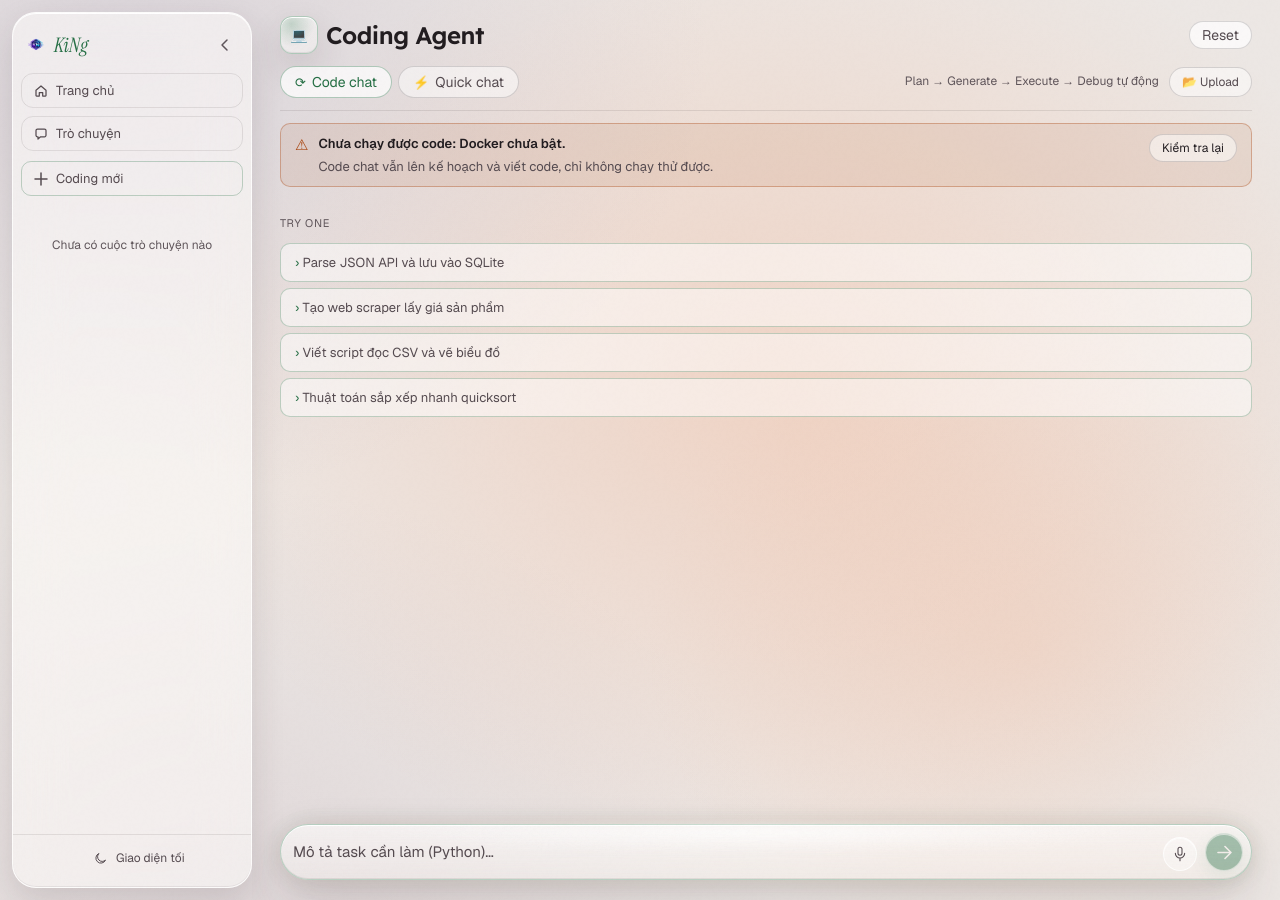
Coding page — sandbox status › doesn't warn in Quick chat, which never runs code
expect the text "Chưa chạy được code: Docker chưa bật." is shown: met, box [318,135,565,152]
Click the button "⚡ Quick chat" at (459, 82), box [398,66,519,98]
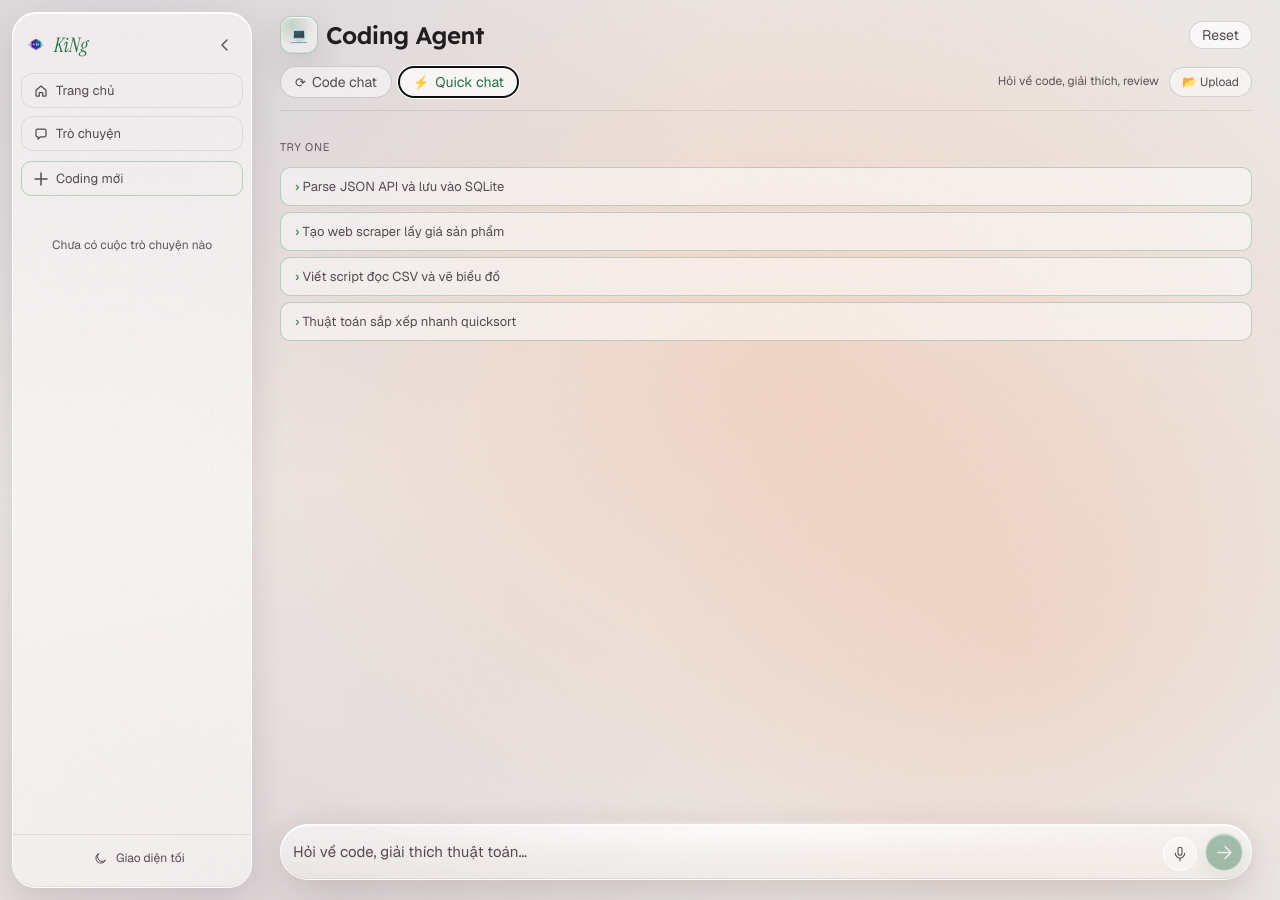
expect the text "Docker chưa bật" is gone: met
